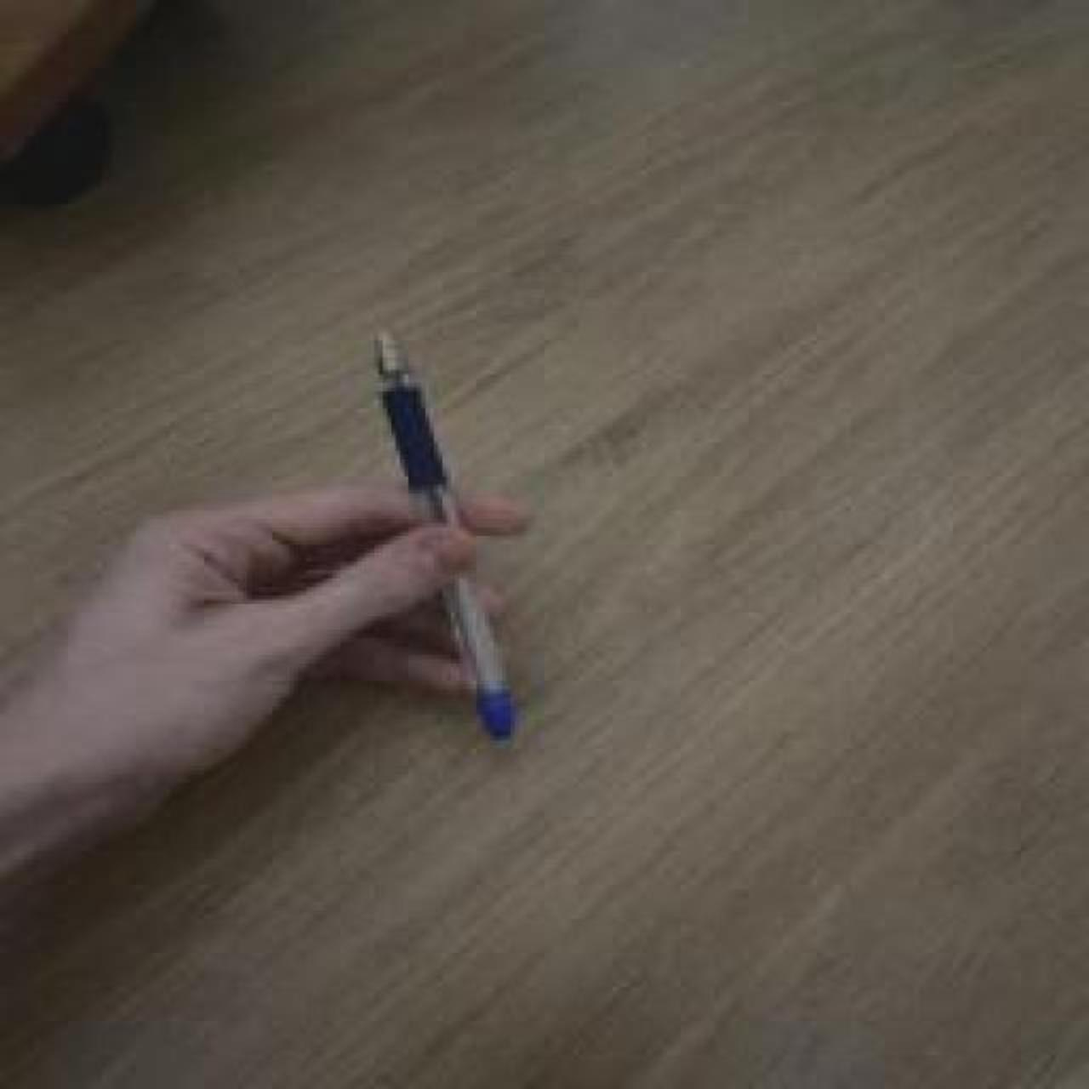pen: (366, 328, 527, 750)
